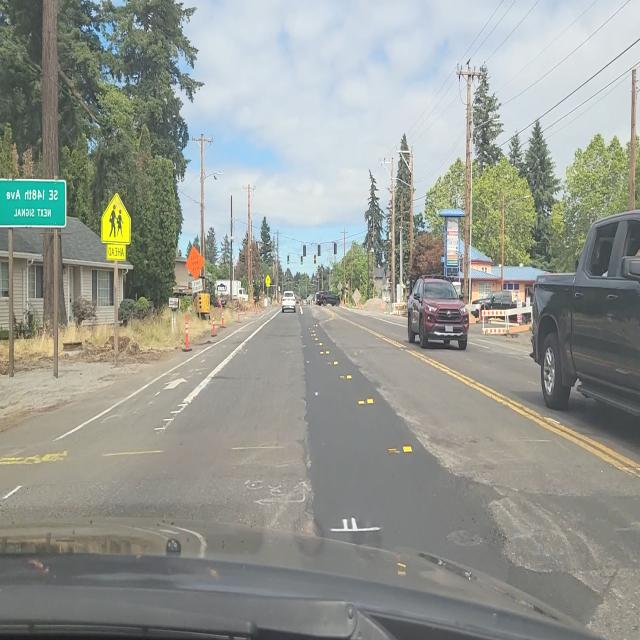car: (529, 207, 640, 432), (406, 276, 468, 348), (471, 290, 520, 318), (316, 291, 340, 307), (280, 291, 296, 313)
crosswalk-sign: (101, 193, 131, 259), (265, 274, 271, 287)
delineator: (182, 312, 192, 351), (210, 313, 218, 337), (220, 307, 225, 328), (238, 306, 242, 322), (244, 304, 248, 318), (256, 302, 260, 315), (254, 299, 257, 312), (381, 303, 384, 313)
